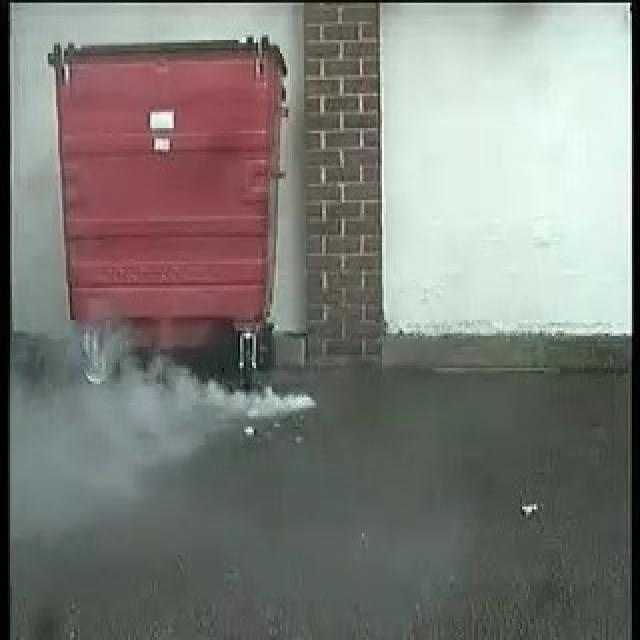smoke: (31, 379, 317, 461)
